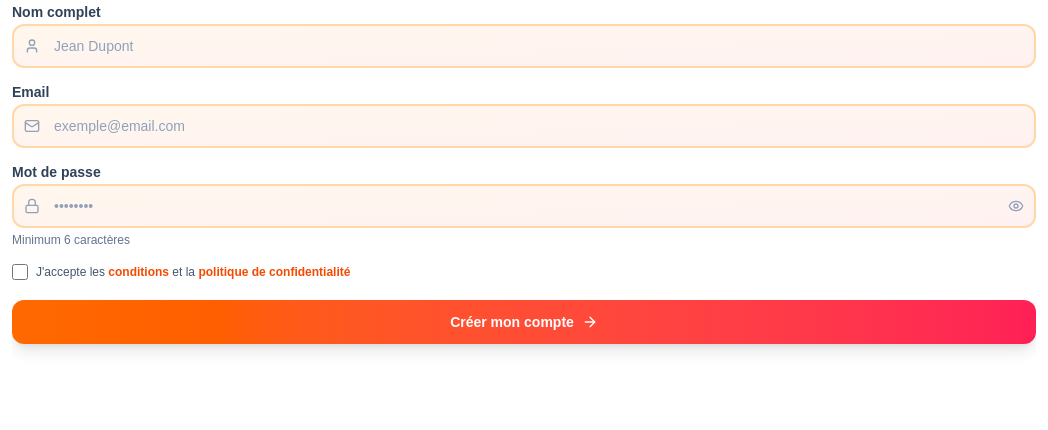
Test: RegisterForm › shows error for short fullname
The image size is (1048, 430).
Type "A" into the field with placeholder "Jean Dupont" at {"x": 524, "y": 46}, box [12,24,1036,68]
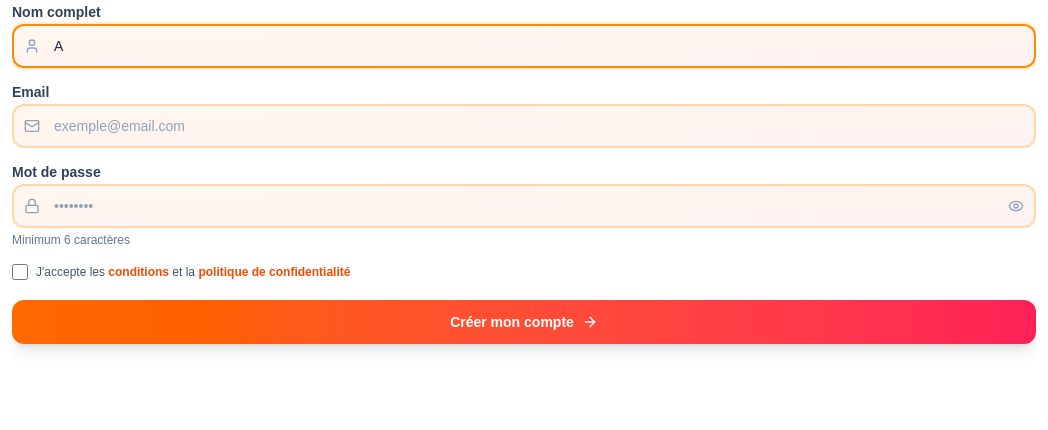
Click the button "Créer mon compte" at {"x": 524, "y": 322}, box [12,300,1036,344]
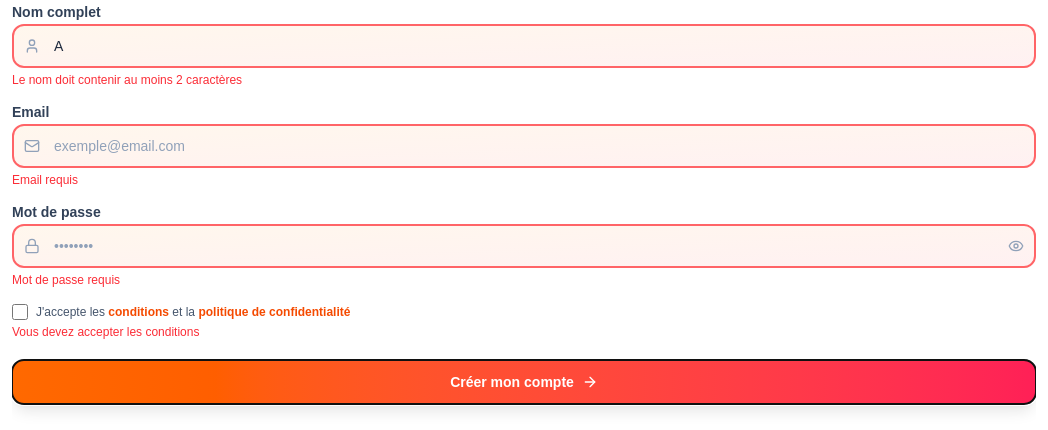
Check: the text "Le nom doit contenir au moins 2 caractères" is shown, box [12,73,242,87]
